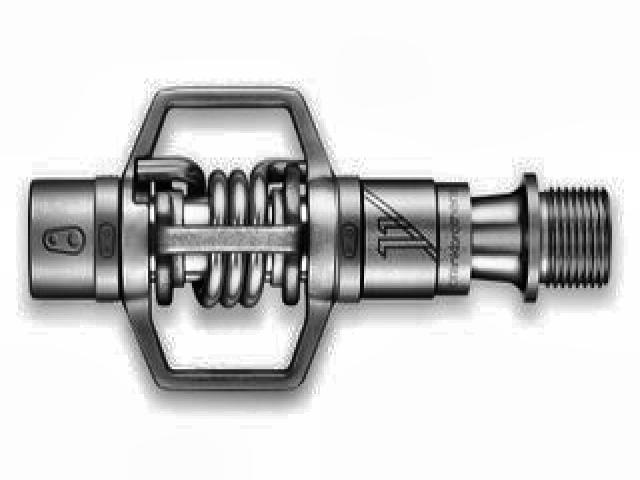pedal: (24, 83, 613, 401)
